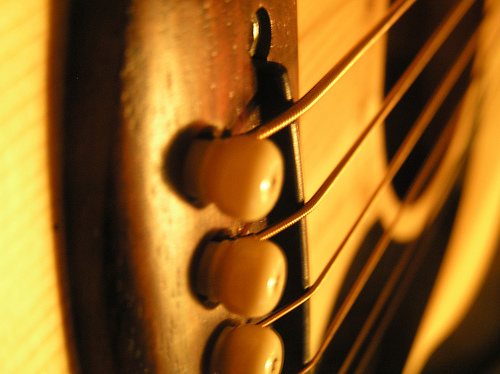guitar: (1, 1, 500, 374)
